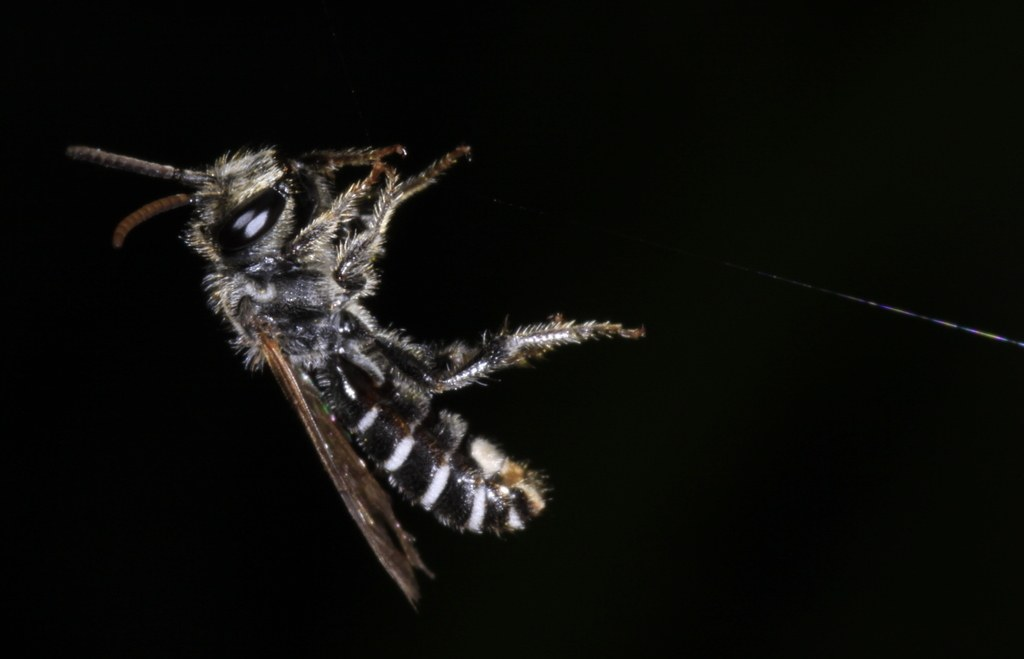insect: (66, 142, 644, 603)
